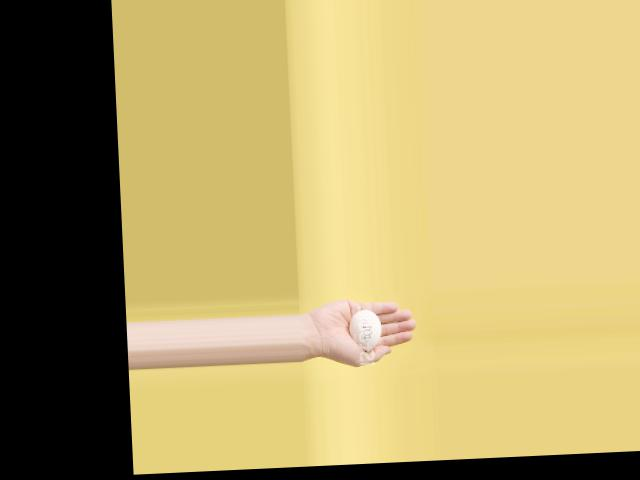egg: (349, 308, 382, 351)
